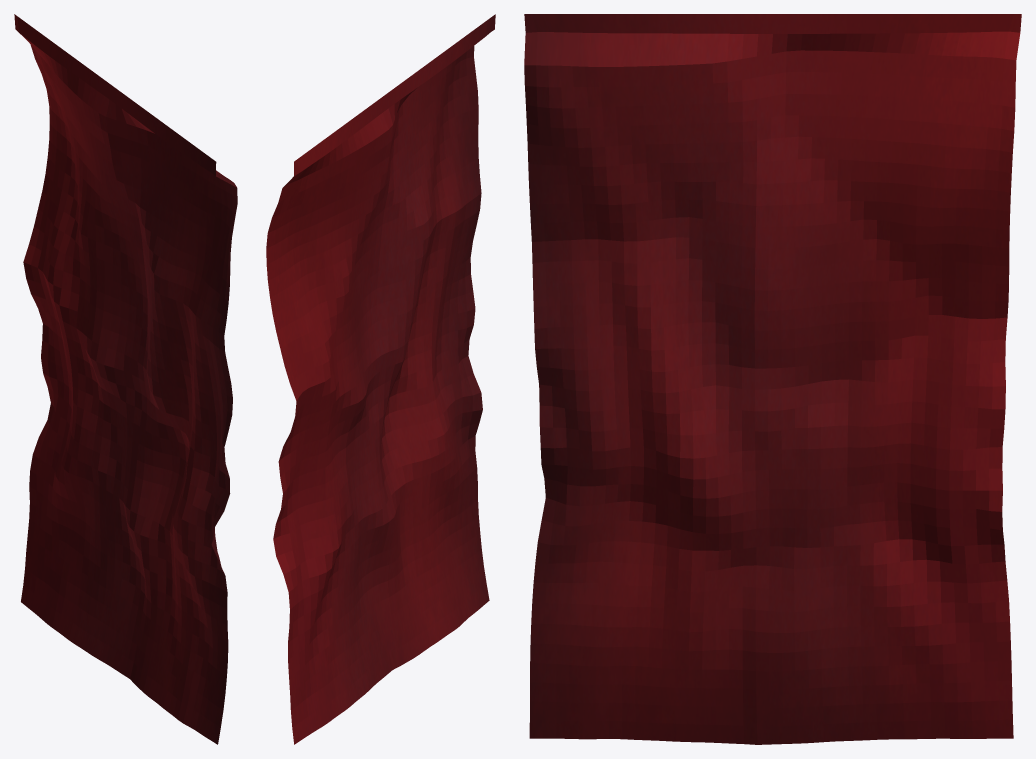
The model's file is F_Curtain_1.fbx.
3 renders of one model, left to right at view 1: azimuth 30°, elevation 25°; view 2: azimuth 150°, elevation 25°; view 3: azimuth 270°, elevation 25°, orthographic. The views are drawn at different scales.
Visible parts, largest first — view 1: F_Curtain_1; view 2: F_Curtain_1; view 3: F_Curtain_1.
Part boxes in pixels (bbox=[...]): F_Curtain_1: bbox=[14, 14, 237, 744]; F_Curtain_1: bbox=[266, 14, 495, 744]; F_Curtain_1: bbox=[524, 14, 1021, 744].
Size of the model in its own units: 4.54 by 7.31 by 0.5684.
1 material, 1 textured.
